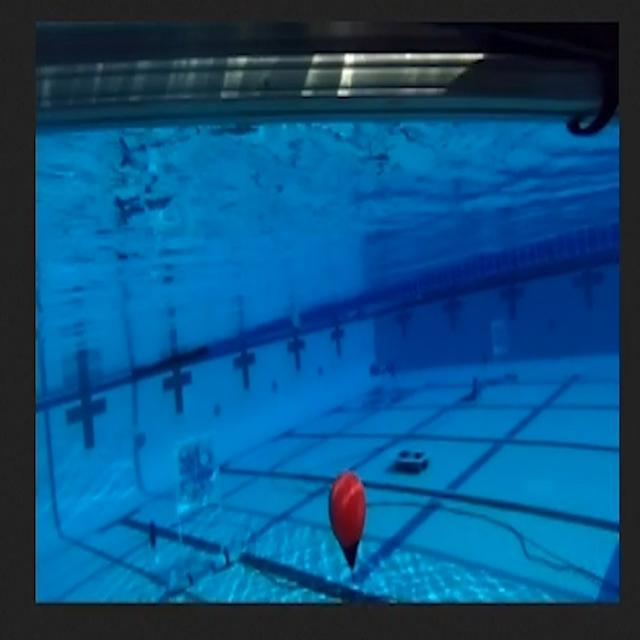Buoy: (324, 476, 372, 566)
